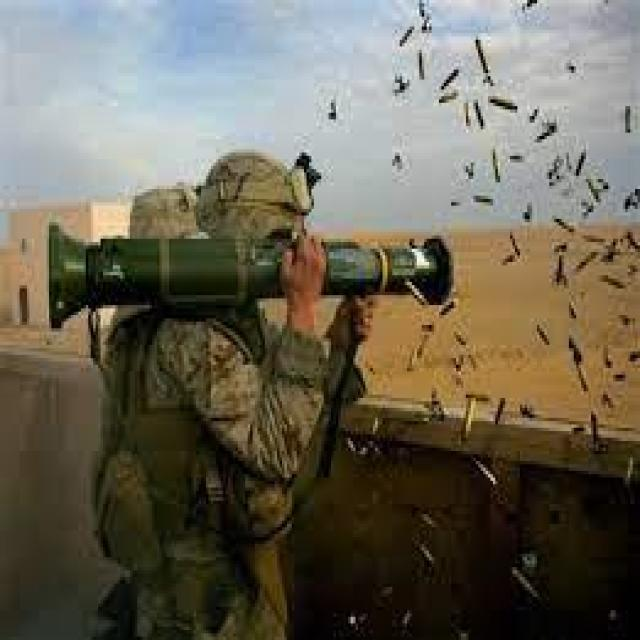bazooka: (32, 215, 466, 317)
